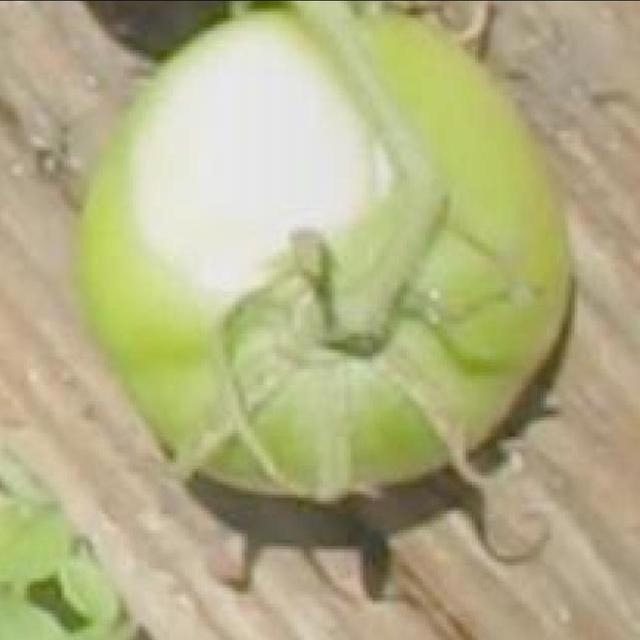Sunscald Fruit: (83, 20, 262, 201)
